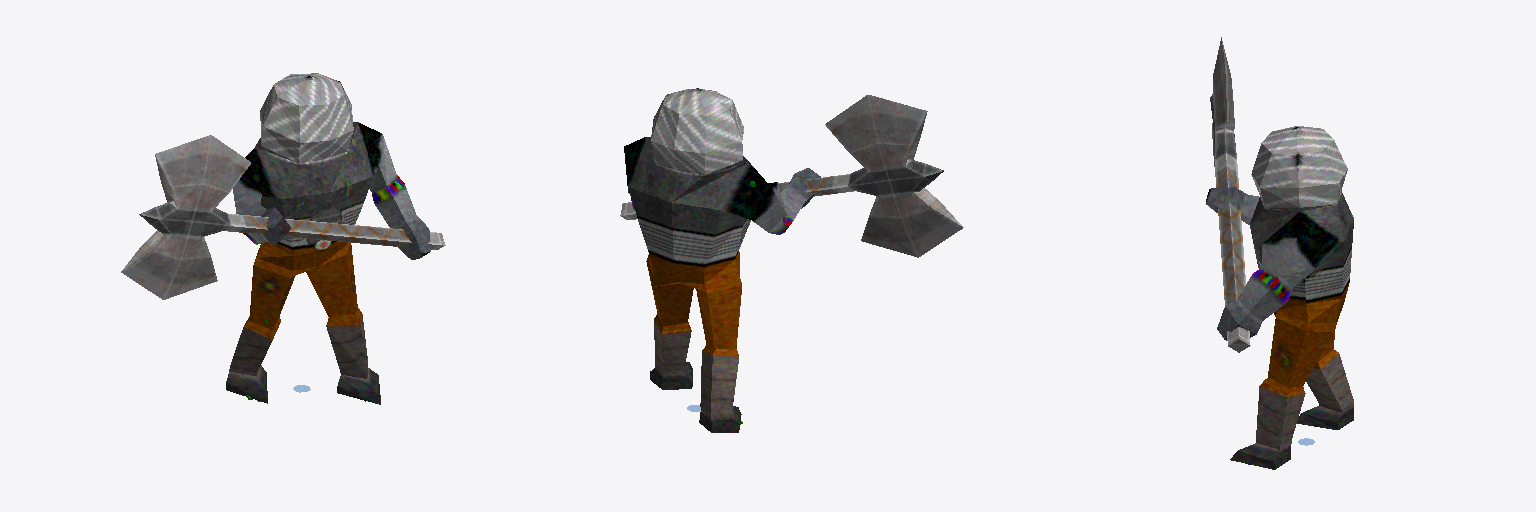
The picture shows the model from 3 angles: view 1: azimuth 30°, elevation 25°; view 2: azimuth 150°, elevation 25°; view 3: azimuth 270°, elevation 25°; orthographic projection.
Visible parts, largest first — view 1: Box001, Cylinder001; view 2: Box001, Cylinder001; view 3: Box001, Cylinder001.
Boxes of the visible parts, <box> form: Box001: <box>226,73,430,404</box>; Cylinder001: <box>121,135,445,299</box>; Box001: <box>624,88,820,432</box>; Cylinder001: <box>620,95,963,257</box>; Box001: <box>1206,126,1353,469</box>; Cylinder001: <box>1210,37,1250,352</box>.
Bounding box in the file's own units: 6.25 × 5.74 × 2.44.
10 materials, 2 textured.